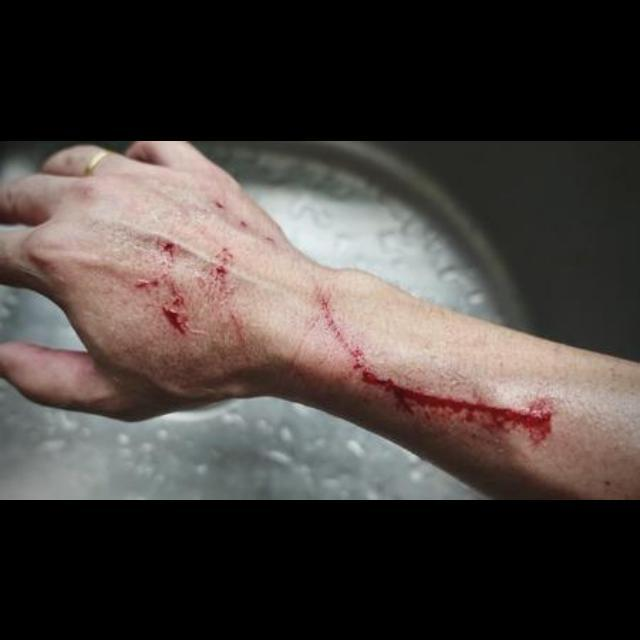blood: (319, 293, 555, 446), (132, 235, 245, 343), (210, 191, 287, 254)
